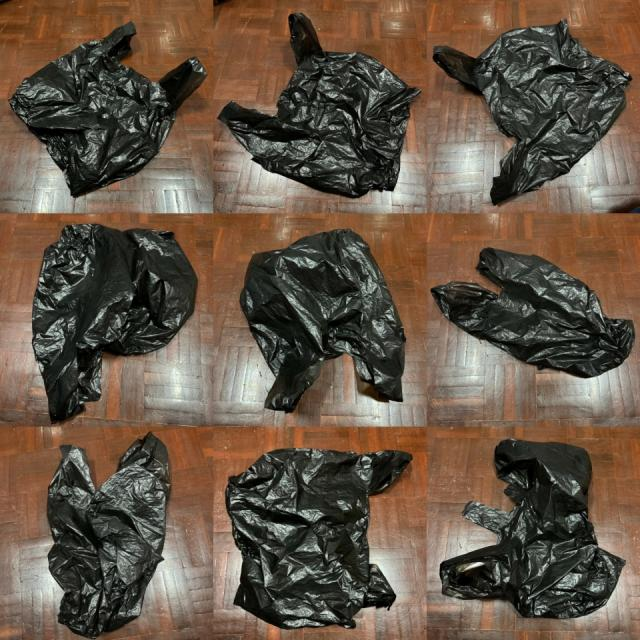Single-layer Plastic: (219, 14, 420, 197), (434, 19, 631, 204), (9, 22, 208, 196), (225, 449, 412, 629), (440, 440, 625, 618), (32, 224, 198, 422), (240, 229, 406, 411), (431, 248, 635, 378), (48, 432, 170, 638)
